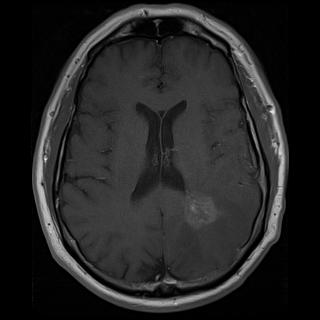glioma: (177, 192, 223, 229)
